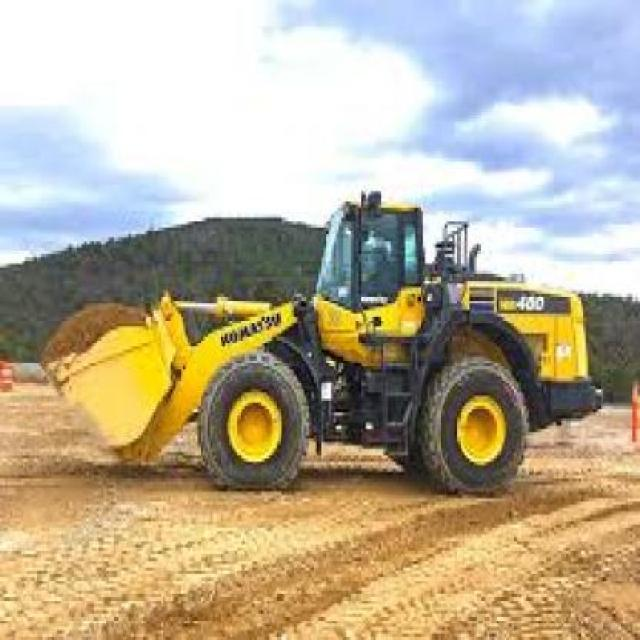buldozerpayloadergrader: (31, 166, 622, 522)
